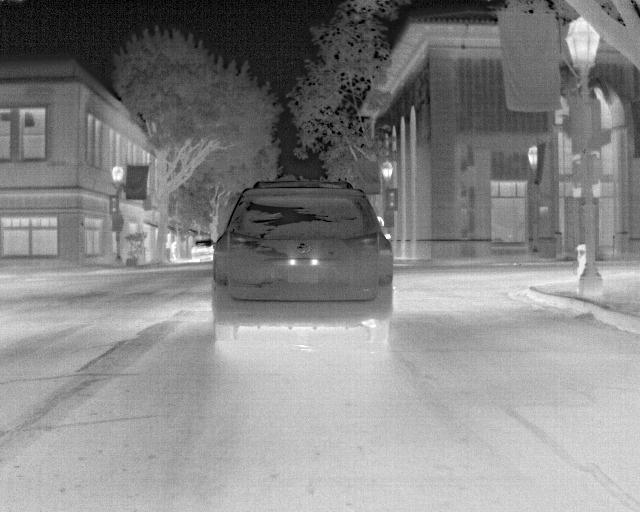bicycle: (209, 178, 395, 345), (188, 238, 215, 264)
